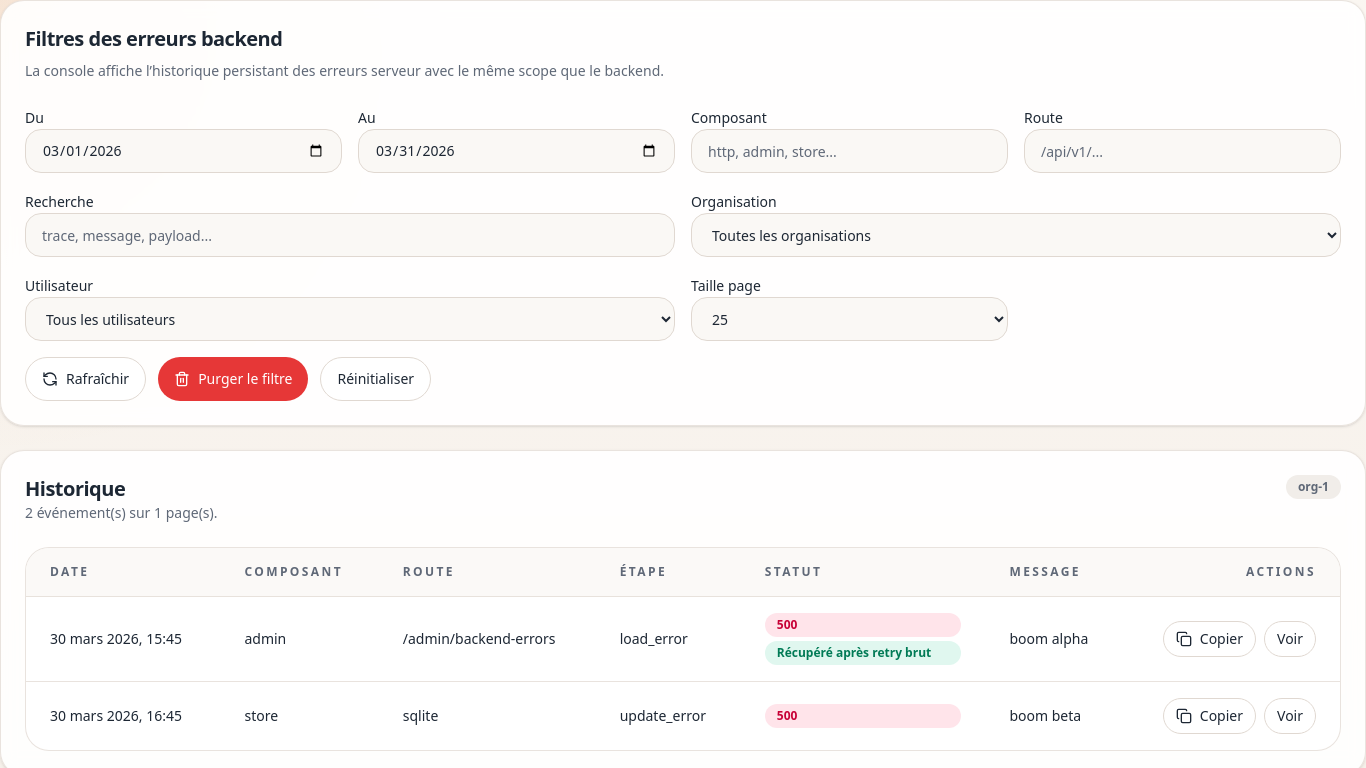
Scenario: BackendErrorsPage › renders the backend error history and the selected detail
Check: the text "2 événement(s) sur 1 page(s)." is shown, box [25,503,218,523]
Check: the dropdown labelled "Utilisateur" is enabled, box [25,297,675,341]
What coordinates should you click on to do the following:
click the 1st button "Voir"
I would click on:
 (1290, 639)
Its box is [1264,621,1316,657].
(page scrolled)
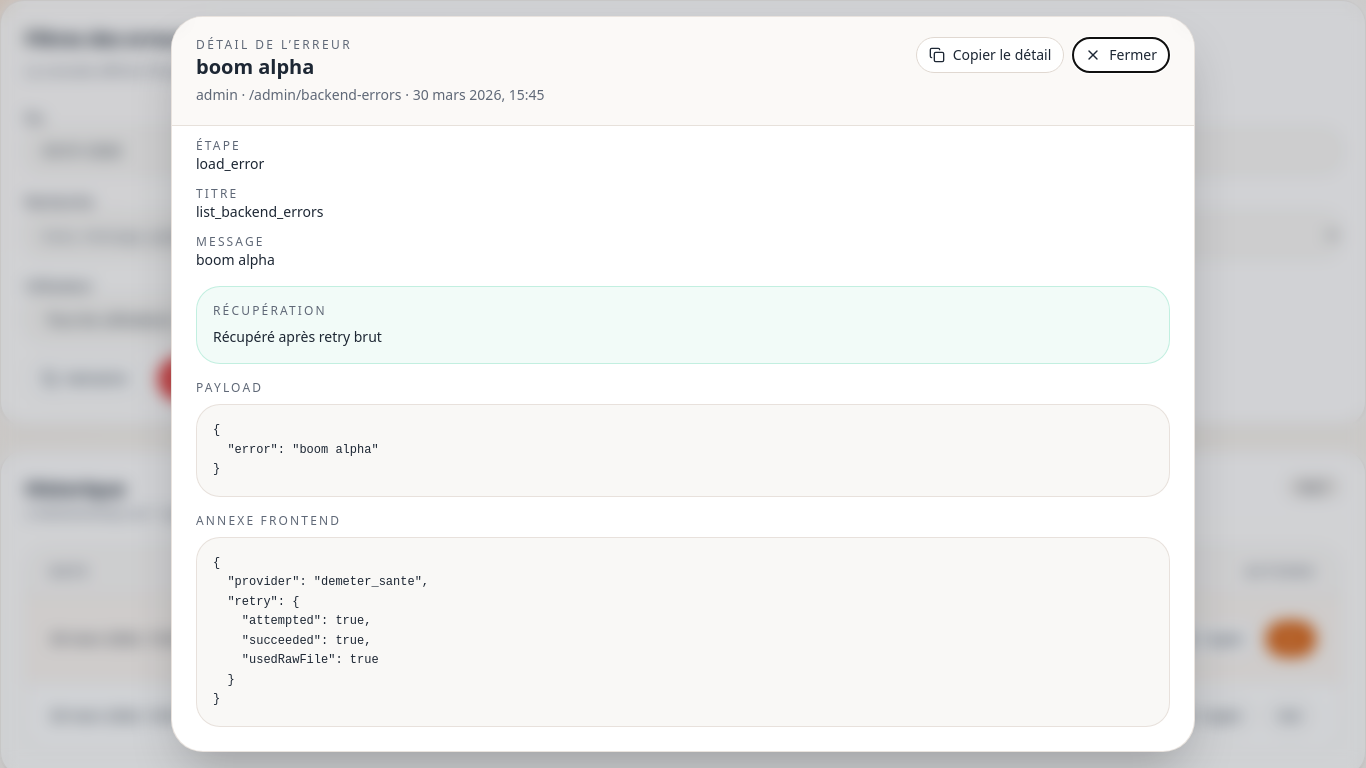
Check: the dialog "boom alpha" is shown
Check: the text "Annexe frontend" is shown, box [196,512,341,528]
Check: the text "\"usedRawFile\": true" is shown, box [213,556,429,706]
